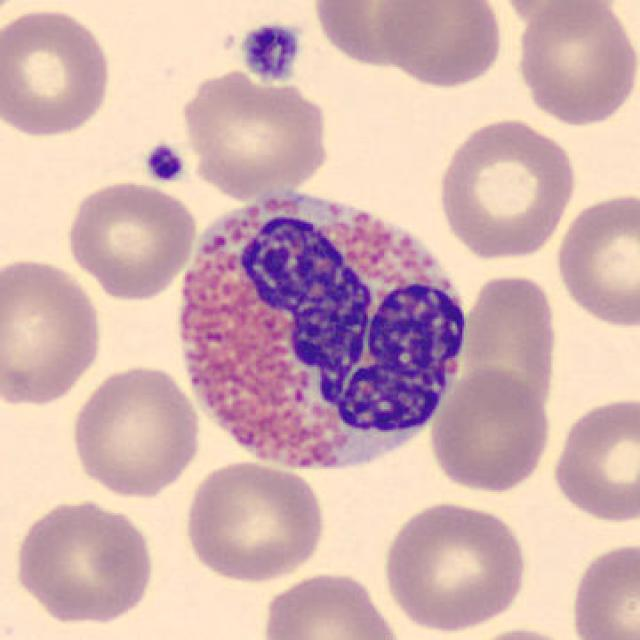Eosinophil: (160, 166, 482, 488)
Platelets: (236, 20, 304, 84), (140, 139, 188, 185)
RBC: (434, 113, 580, 263), (378, 497, 532, 635), (176, 65, 332, 199), (11, 495, 158, 626), (179, 457, 329, 585), (66, 360, 204, 499), (62, 176, 201, 302), (426, 364, 556, 496), (510, 0, 638, 129), (0, 254, 105, 409), (462, 268, 563, 426), (0, 4, 116, 141), (551, 188, 638, 332), (375, 0, 509, 92), (548, 392, 638, 526), (258, 567, 409, 640), (310, 0, 444, 69), (565, 537, 638, 640), (494, 0, 615, 30), (455, 624, 585, 640), (0, 0, 30, 23)
